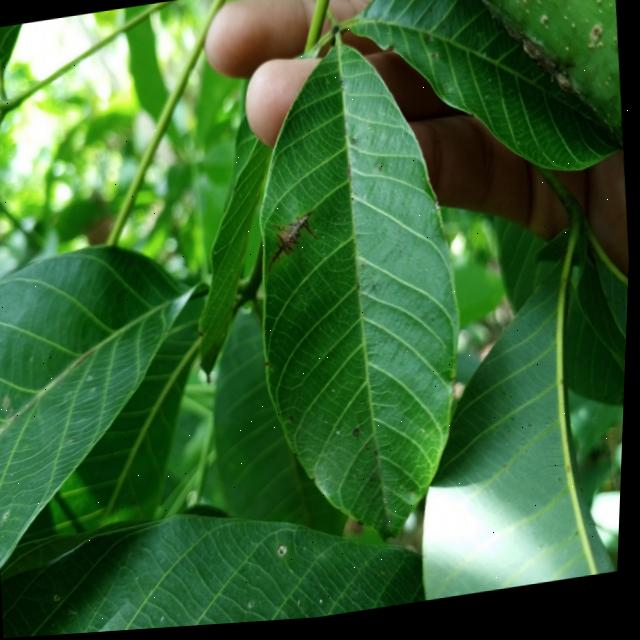Corynespora: (267, 214, 323, 270)
